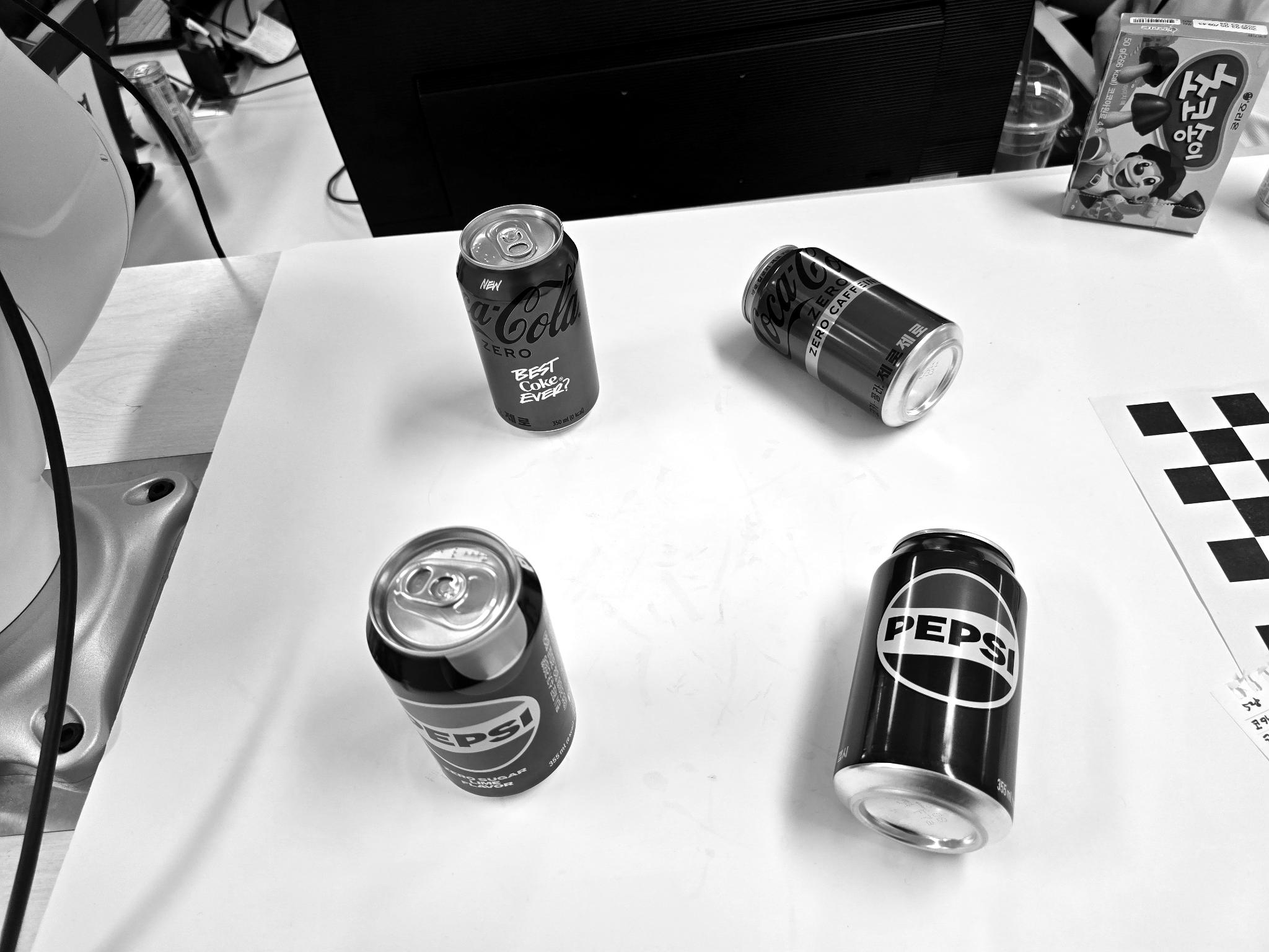can_coke_decaf: (742, 246, 963, 426)
can_coke_zero: (457, 204, 599, 432)
can_pepsi: (835, 529, 1027, 851)
can_pepsi_zero: (367, 526, 576, 797)
